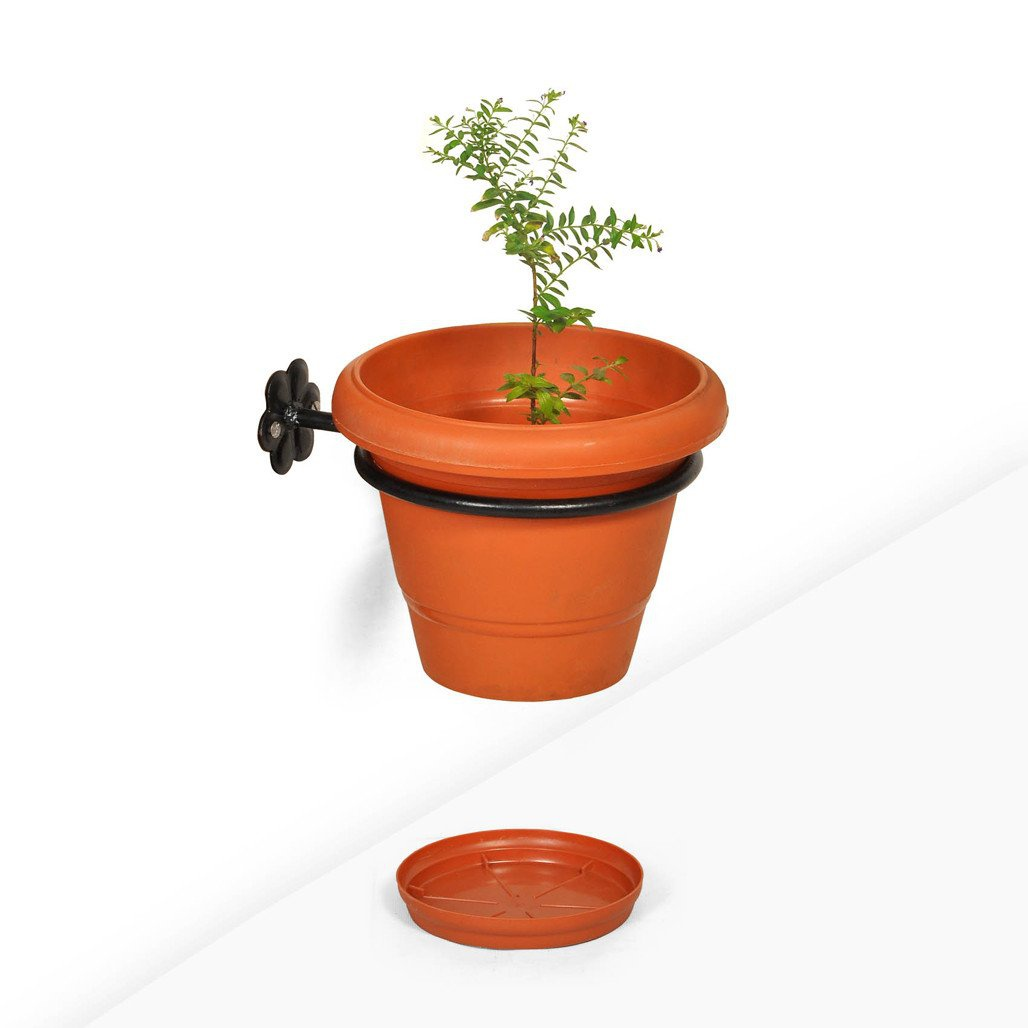flowerpot: (332, 324, 729, 693)
